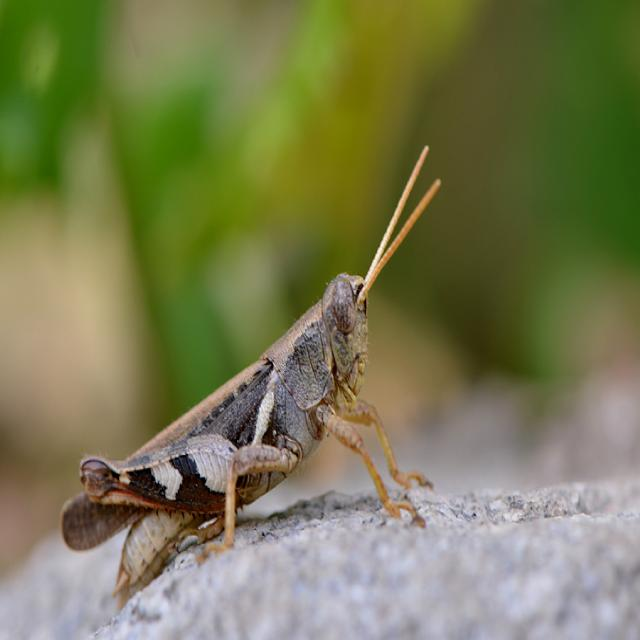ZhaMeng: (58, 259, 413, 590)
